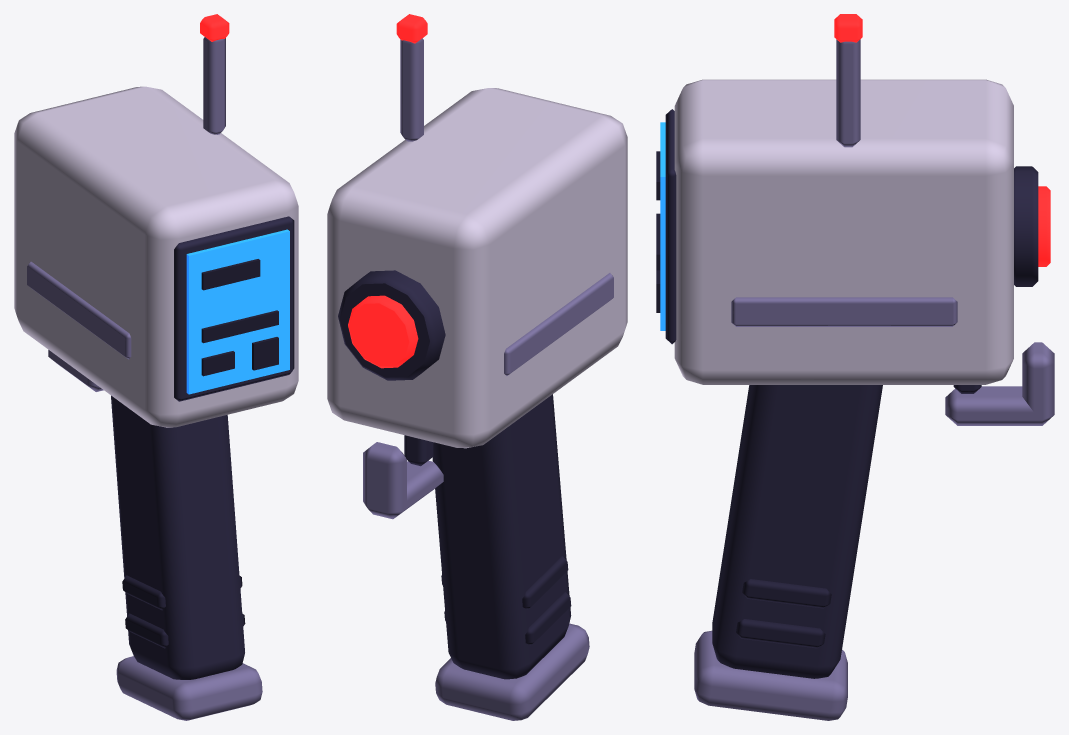
Rendered from scanner.glb.
The picture shows the model from 3 angles, left to right: view 1: azimuth 30°, elevation 25°; view 2: azimuth 150°, elevation 25°; view 3: azimuth 270°, elevation 25°; orthographic projection. The views are drawn at different scales.
Parts seen in each view (by area): view 1: item.scanner.body; view 2: item.scanner.body; view 3: item.scanner.body.
Part boxes in pixels (x1,y1,x2,y2): item.scanner.body: (14,14,298,720); item.scanner.body: (327,14,627,720); item.scanner.body: (656,14,1054,720).
Size of the model in its own units: 0.1594 by 0.6129 by 0.3078.
